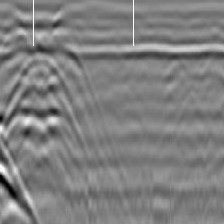Utility: (0, 43, 95, 161)
